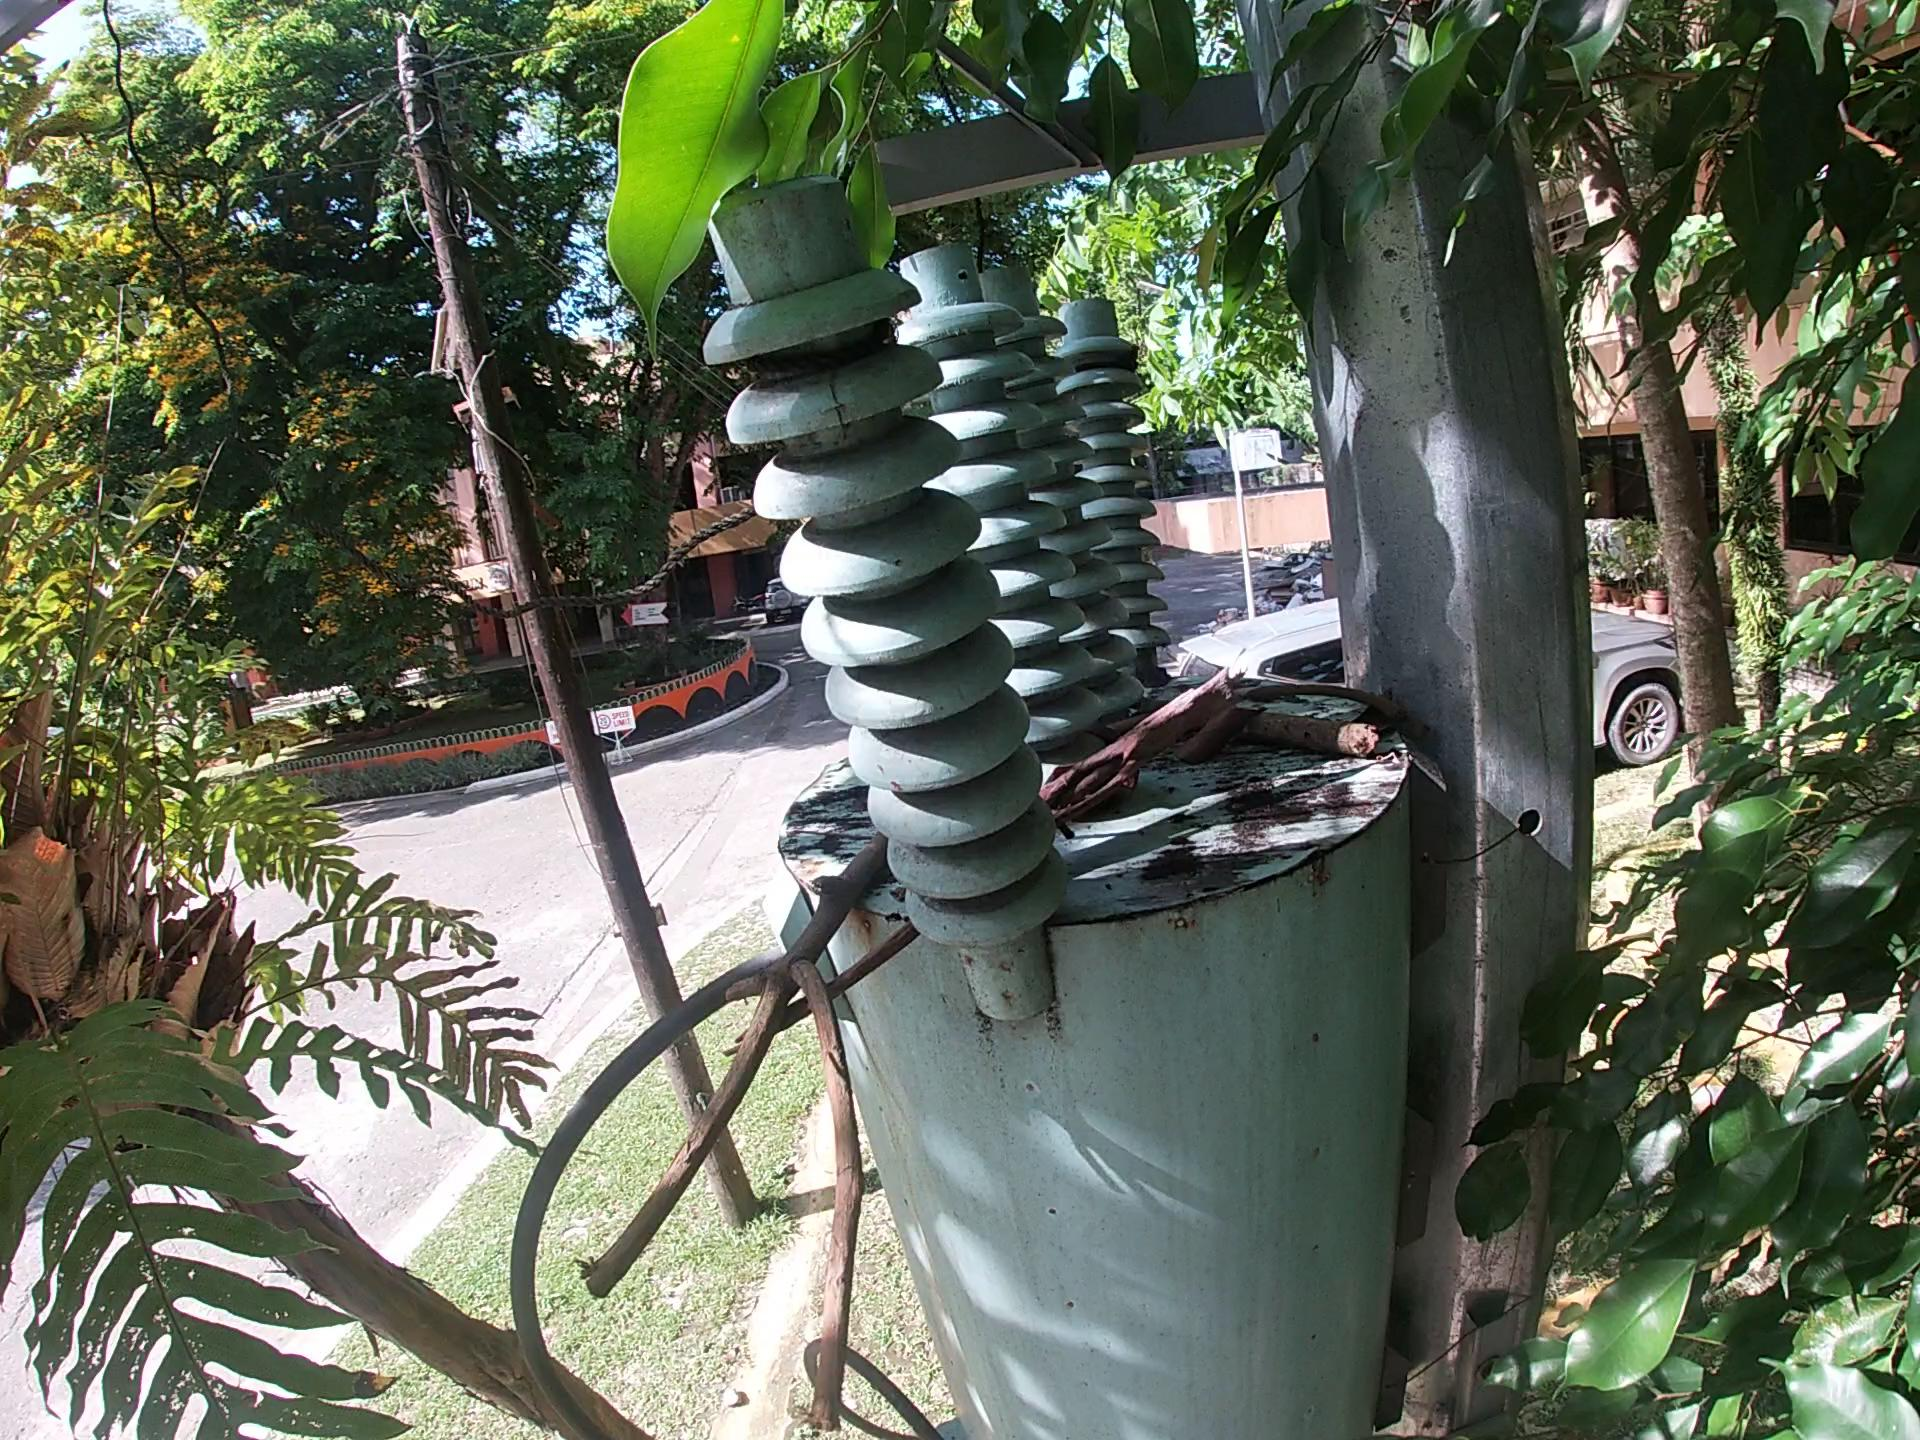leaf: (1167, 703, 1259, 767), (1349, 685, 1401, 737)
tree branch: (562, 824, 918, 1438), (1030, 658, 1246, 830), (714, 914, 927, 1059), (1232, 667, 1412, 725), (1231, 703, 1382, 759)
